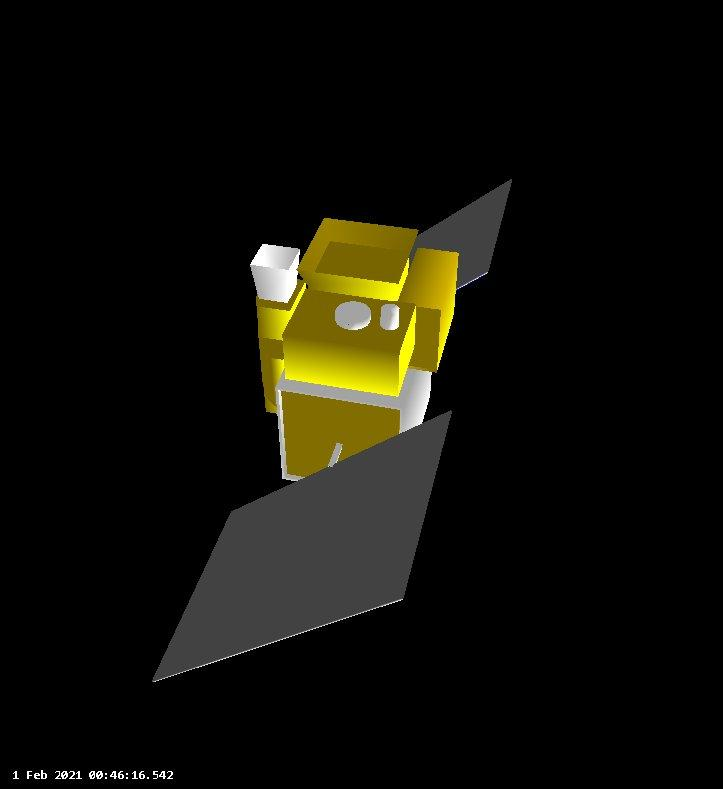antenna: (333, 299, 374, 331)
body: (274, 359, 433, 488)
solar: (149, 408, 457, 687), (408, 175, 515, 293)
thruster: (298, 216, 420, 300), (248, 239, 302, 303)
